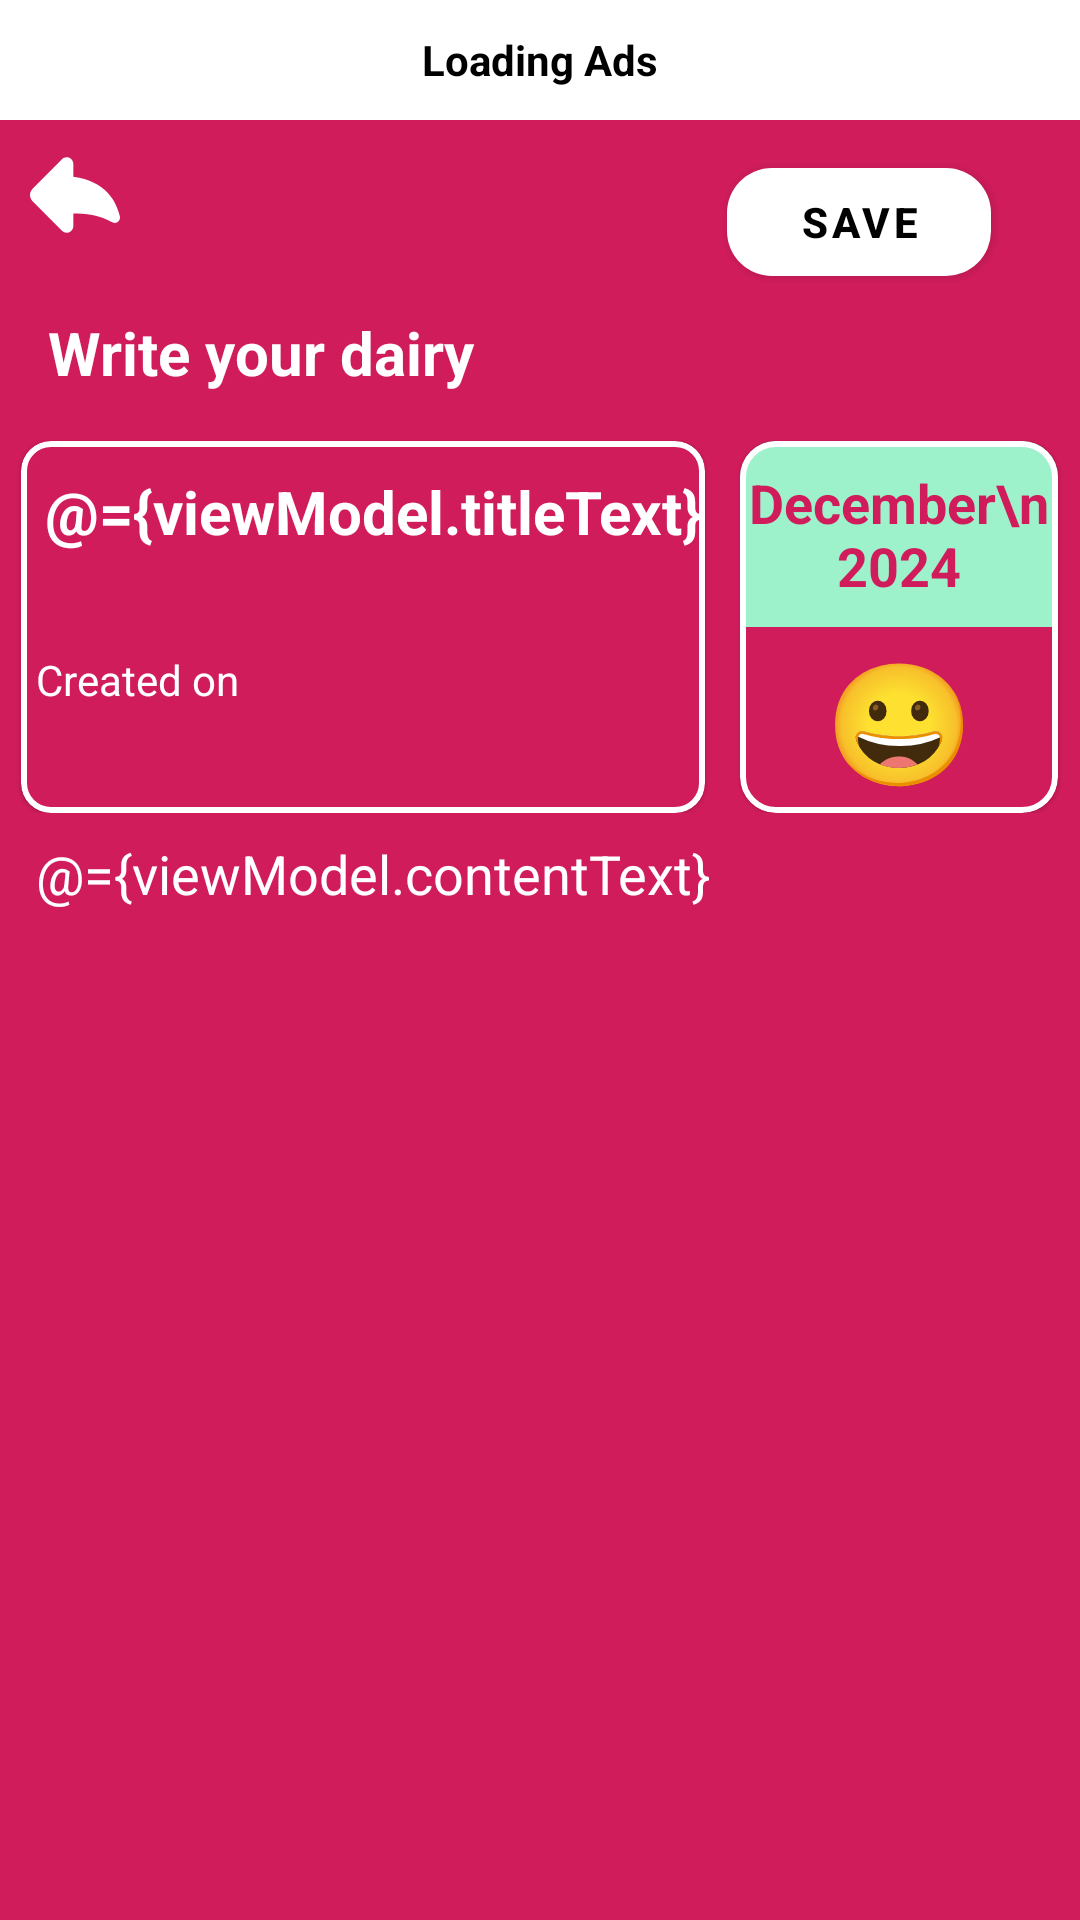

Named icons in this screenshot (1080w x 1920h) and their bounding boxes, [x1,y1,x2,y2]:
back arrow: [30,157,120,233]
